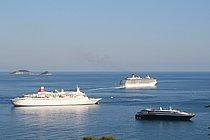Ship: (8, 82, 105, 111), (134, 103, 199, 124), (118, 70, 163, 93)
